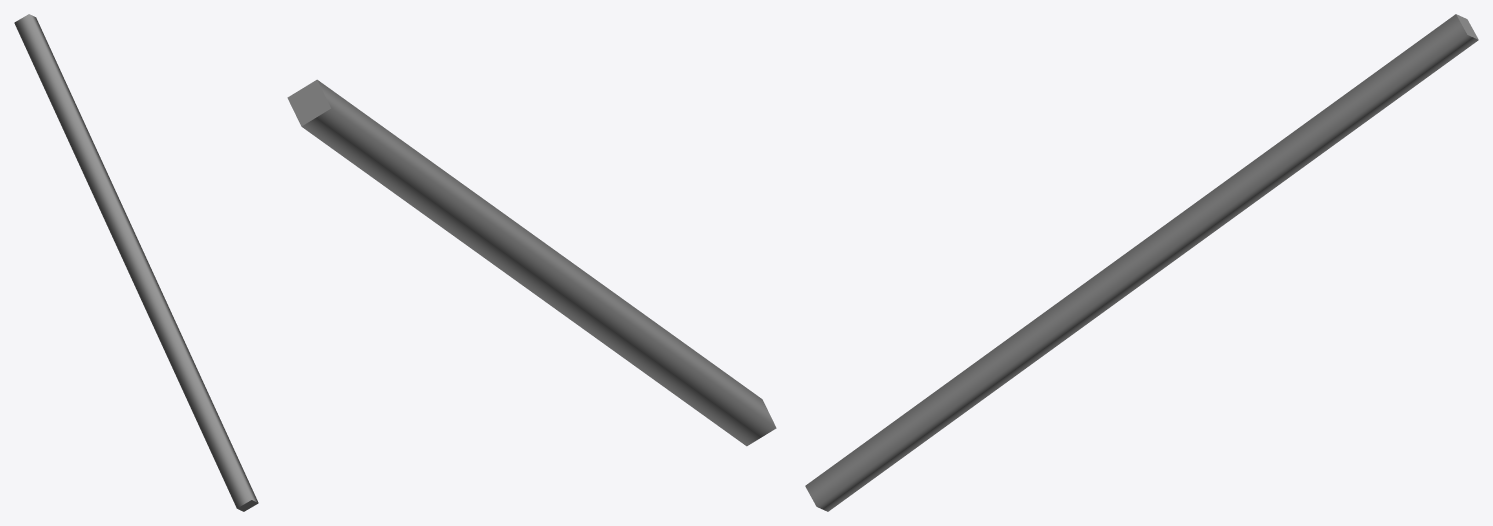
File: SW_ENV_Railing_StairWall_05.fbx
3 views of the same model, side by side, from view 1: azimuth 30°, elevation 25°; view 2: azimuth 150°, elevation 25°; view 3: azimuth 270°, elevation 25° (orthographic). The views are drawn at different scales.
Parts seen in each view (by area): view 1: SW_ENV_Railing_StairWall_05; view 2: SW_ENV_Railing_StairWall_05; view 3: SW_ENV_Railing_StairWall_05.
Boxes of the visible parts, x1,y1,x2,y2 form: SW_ENV_Railing_StairWall_05: (14, 14, 258, 511); SW_ENV_Railing_StairWall_05: (287, 79, 776, 446); SW_ENV_Railing_StairWall_05: (805, 14, 1478, 511).
Size of the model in its own units: 0.0712 by 1.06 by 1.29.
